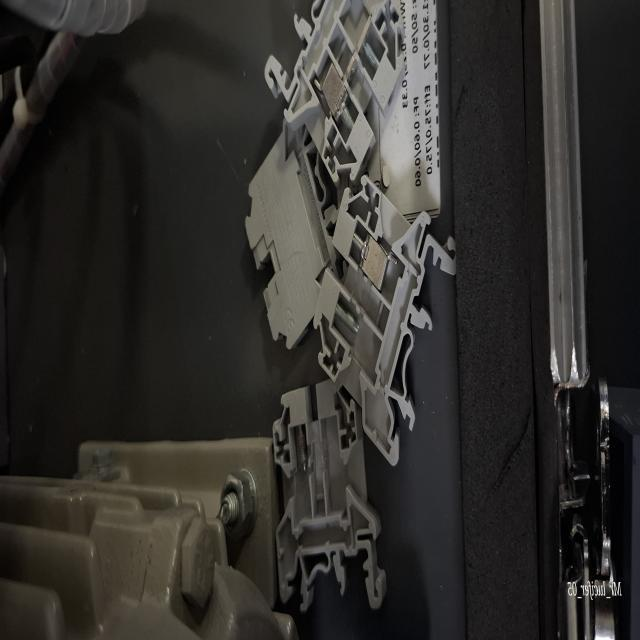Reject: (310, 170, 468, 472), (272, 372, 387, 640)
